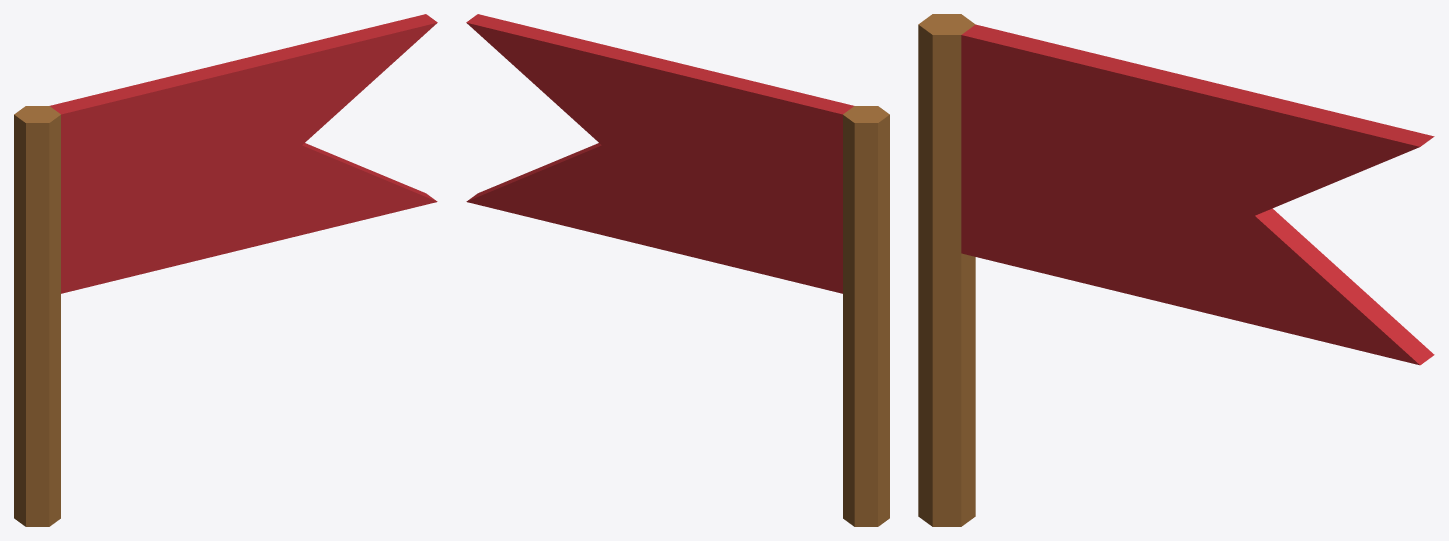
The model's file is banner.glb.
The picture shows the model from 3 angles, left to right: view 1: azimuth 30°, elevation 25°; view 2: azimuth 150°, elevation 25°; view 3: azimuth 330°, elevation 25°; orthographic projection. The views are drawn at different scales.
Visible parts, largest first — view 1: Banner; view 2: Banner; view 3: Banner.
Boxes of the visible parts, <box> form: Banner: <box>14,14,437,526</box>; Banner: <box>466,14,889,526</box>; Banner: <box>918,14,1434,526</box>.
Size of the model in its own units: 0.7035 by 0.6589 by 0.0696.
